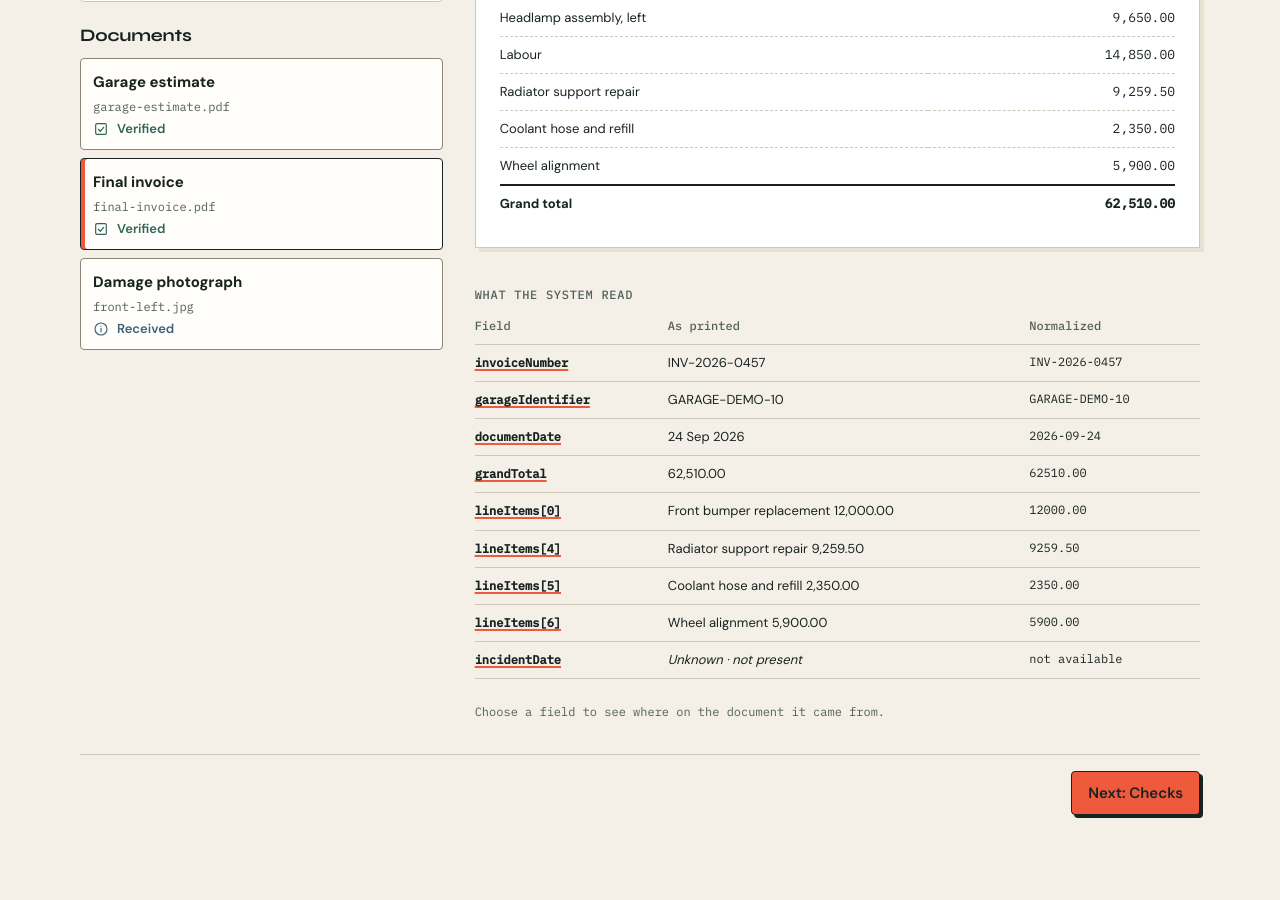
Test: Documents step › marks the printed value a field came from and shows its source quote as text
(page scrolled)
Click the button "grandTotal".
click(511, 475)  # box [475,465,547,484]
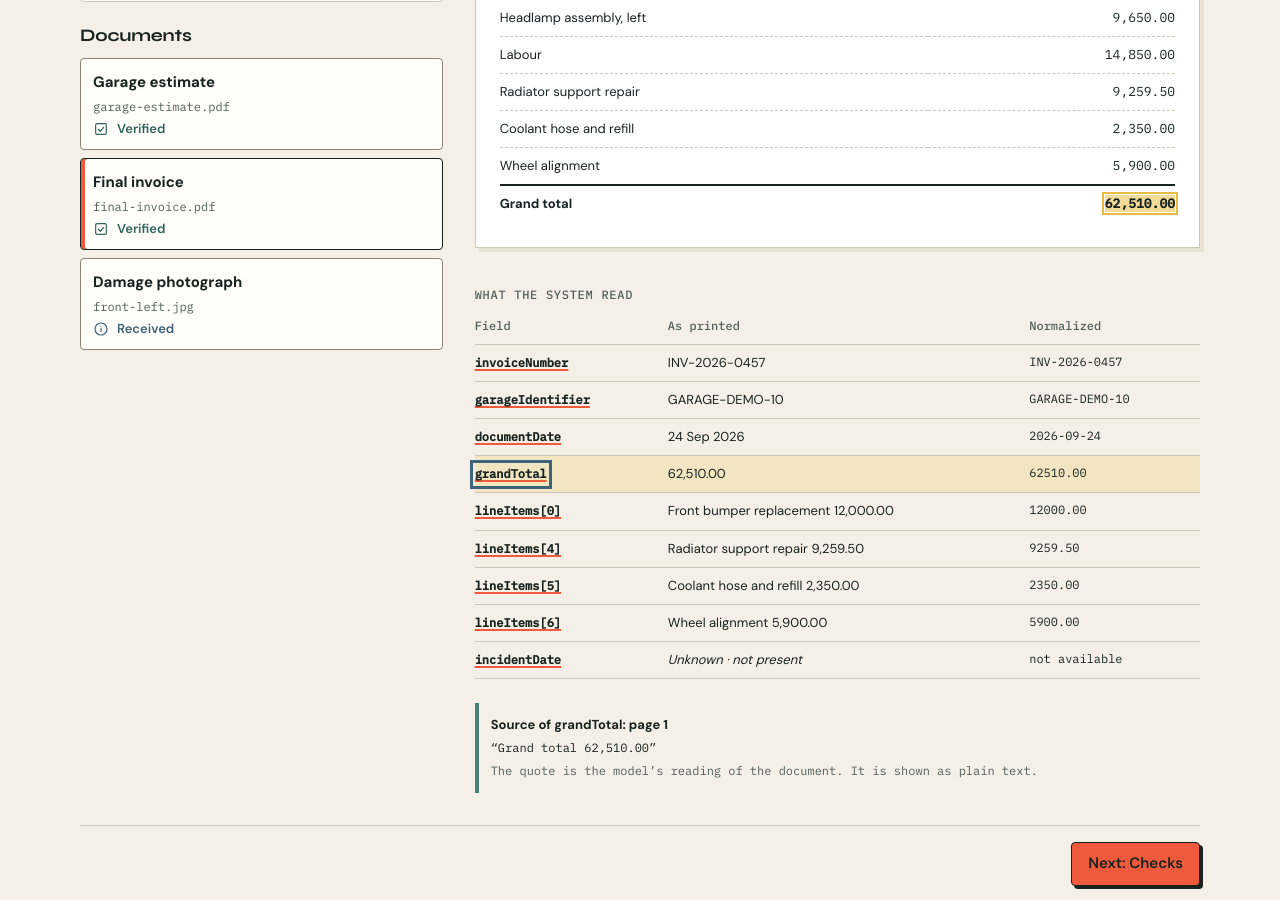
Result: the text "Source of grandTotal: page 1" is shown at [491,716,668,733]
Result: the text "“Grand total 62,510.00”" is shown at [491,740,656,755]
